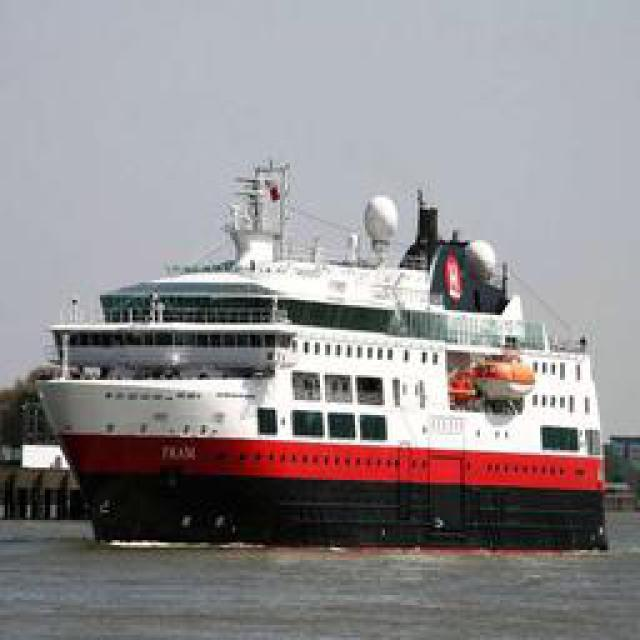Ship: (32, 199, 615, 542)
